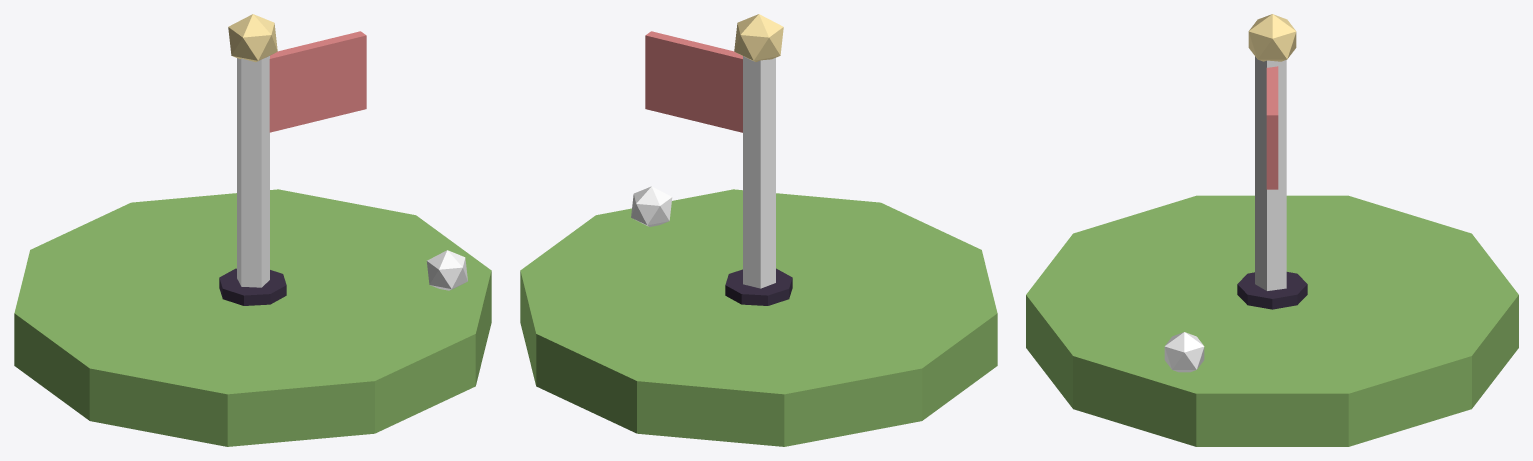
The model's file is park-g0.glb.
3 views of the same model, side by side, from view 1: azimuth 30°, elevation 25°; view 2: azimuth 150°, elevation 25°; view 3: azimuth 270°, elevation 25° (orthographic).
Parts seen in each view (by area): view 1: park-g0; view 2: park-g0; view 3: park-g0.
Part boxes in pixels (x1,y1,x2,y2): park-g0: (14, 14, 491, 446); park-g0: (520, 14, 997, 446); park-g0: (1026, 14, 1518, 446).
Size of the model in its own units: 0.5752 by 0.4522 by 0.6048.
